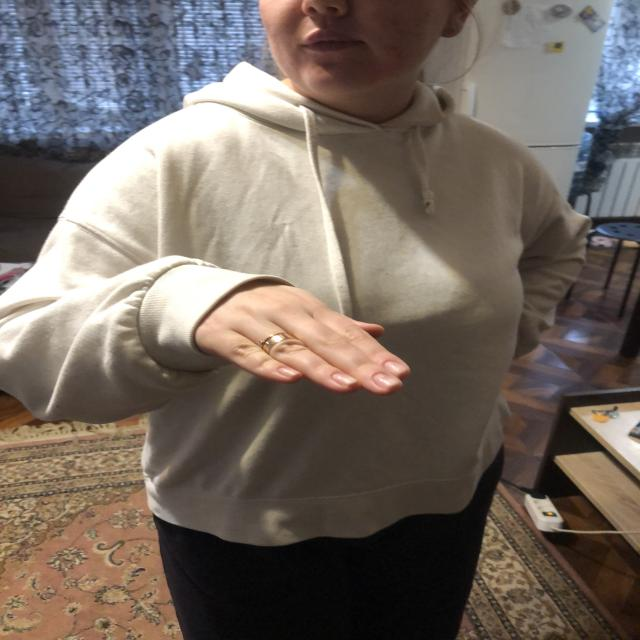paper: (218, 294, 414, 396)
